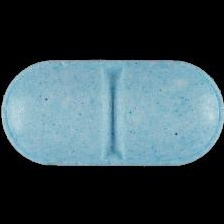33261-209: (0, 0, 224, 224)
